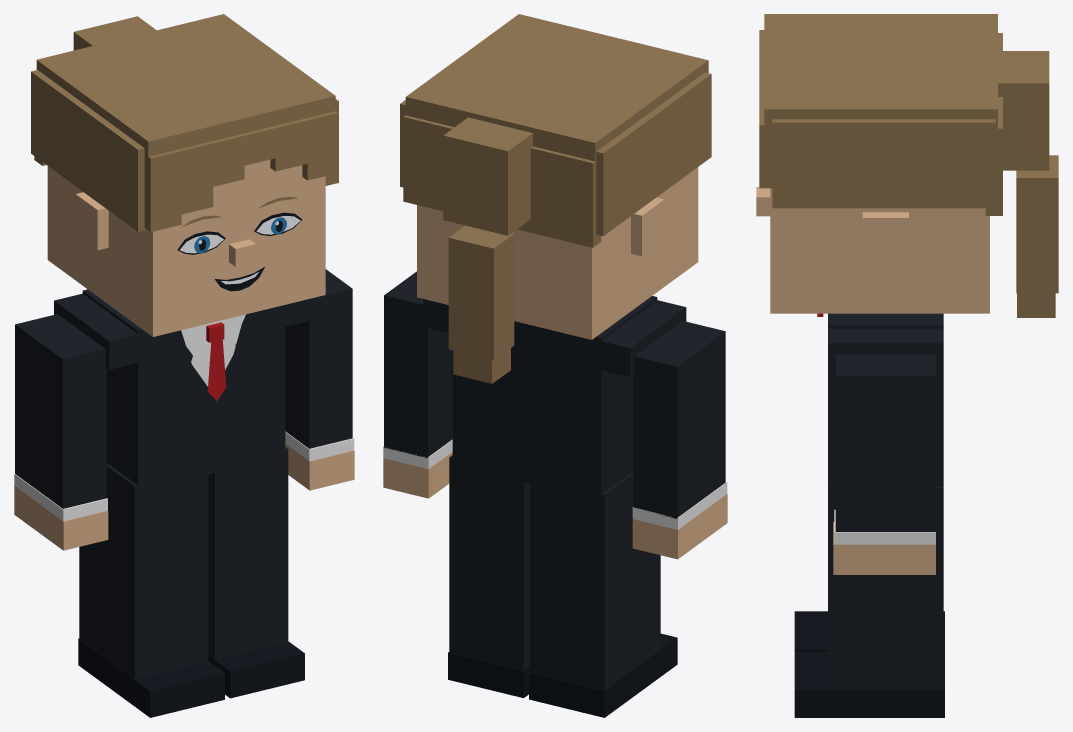
Rendered from male_ponytail.glb.
3 renders of one model, left to right at view 1: azimuth 30°, elevation 25°; view 2: azimuth 150°, elevation 25°; view 3: azimuth 270°, elevation 25°, orthographic. The views are drawn at different scales.
Parts seen in each view (by area): view 1: char_hair_visual, char_torso_visual, char_head_visual, char_leg_negx_visual, char_arm_negx_visual, char_leg_posx_visual, char_arm_posx_visual, char_hand_negx_visual, char_hand_posx_visual, char_eye_negx_visual, char_eye_posx_visual; view 2: char_hair_visual, char_torso_visual, char_head_visual, char_leg_negx_visual, char_arm_negx_visual, char_leg_posx_visual, char_arm_posx_visual, char_hand_negx_visual, char_hand_posx_visual; view 3: char_hair_visual, char_head_visual, char_arm_posx_visual, char_leg_posx_visual, char_torso_visual, char_hand_posx_visual, char_leg_negx_visual.
Boxes of the visible parts, x1,y1,x2,y2 form: char_hair_visual: (31,14,338,231); char_torso_visual: (54,289,313,561); char_head_visual: (47,159,325,336); char_leg_negx_visual: (78,541,224,717); char_arm_negx_visual: (14,314,107,521); char_leg_posx_visual: (208,523,304,698); char_arm_posx_visual: (285,269,354,461); char_hand_negx_visual: (14,486,108,550); char_hand_posx_visual: (285,444,354,490); char_eye_negx_visual: (177,231,225,254); char_eye_posx_visual: (254,212,302,235); char_hair_visual: (400,14,711,383); char_torso_visual: (423,296,686,569); char_head_visual: (417,167,698,339); char_leg_negx_visual: (529,549,677,717); char_arm_negx_visual: (632,321,727,529); char_leg_posx_visual: (448,532,529,698); char_arm_posx_visual: (383,271,452,469); char_hand_negx_visual: (632,494,727,559); char_hand_posx_visual: (383,452,452,498); char_hair_visual: (759,14,1058,317); char_head_visual: (756,187,989,313); char_arm_posx_visual: (834,354,935,544); char_leg_posx_visual: (794,568,944,717); char_torso_visual: (817,313,943,570); char_hand_posx_visual: (833,522,935,574); char_leg_negx_visual: (794,611,944,651).
Bounding box in the file's own units: 0.91 × 1.77 × 0.784.
